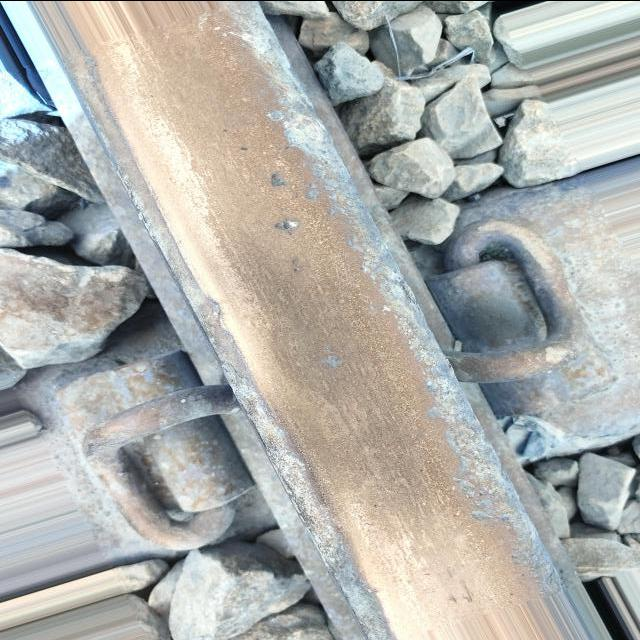squats_high: (322, 349, 346, 367), (274, 218, 302, 232), (269, 170, 285, 188)
